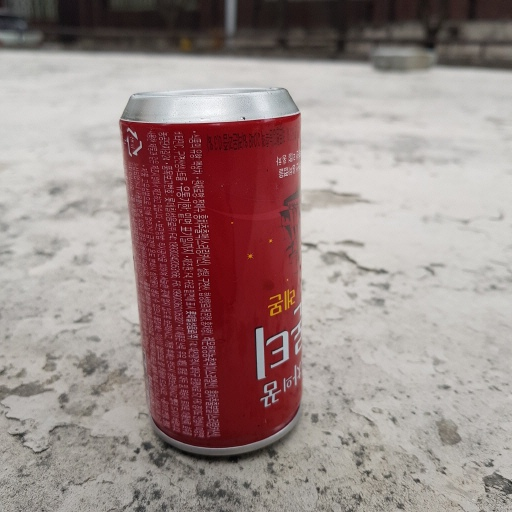Metal_0: (120, 84, 308, 463)
